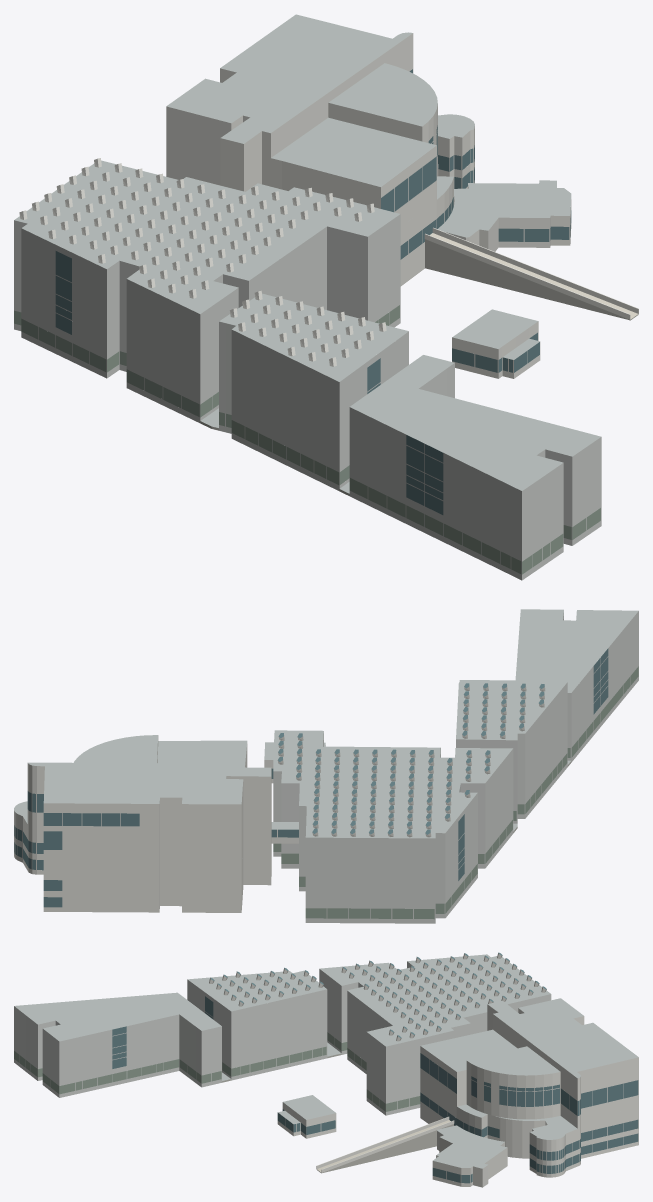
The model's file is high-museum-of-art-far.glb.
3 views of the same model, one above another, from view 1: azimuth 30°, elevation 25°; view 2: azimuth 150°, elevation 25°; view 3: azimuth 270°, elevation 25° (orthographic). The views are drawn at different scales.
Visible parts, largest first — view 1: high-museum-of-art-0-roof, high-museum-of-art-0-aluminum, high-museum-of-art-0-white, high-museum-of-art-0-glass, high-museum-of-art-0-glow, high-museum-of-art-0-foundation, high-museum-of-art-0-path; view 2: high-museum-of-art-0-roof, high-museum-of-art-0-white, high-museum-of-art-0-aluminum, high-museum-of-art-0-glass, high-museum-of-art-0-glow; view 3: high-museum-of-art-0-roof, high-museum-of-art-0-aluminum, high-museum-of-art-0-white, high-museum-of-art-0-glass, high-museum-of-art-0-glow, high-museum-of-art-0-foundation, high-museum-of-art-0-path.
Boxes of the visible parts, box(x1,y1,x2,y2) form: high-museum-of-art-0-roof: box(14, 14, 600, 493); high-museum-of-art-0-aluminum: box(14, 214, 601, 580); high-museum-of-art-0-white: box(19, 33, 638, 378); high-museum-of-art-0-glass: box(55, 69, 571, 514); high-museum-of-art-0-glow: box(14, 305, 600, 574); high-museum-of-art-0-foundation: box(200, 239, 638, 495); high-museum-of-art-0-path: box(430, 233, 637, 318); high-museum-of-art-0-roof: box(14, 609, 638, 838); high-museum-of-art-0-white: box(14, 684, 545, 912); high-museum-of-art-0-aluminum: box(273, 611, 638, 923); high-museum-of-art-0-glass: box(14, 648, 608, 907); high-museum-of-art-0-glow: box(273, 666, 638, 919); high-museum-of-art-0-roof: box(14, 954, 638, 1168); high-museum-of-art-0-aluminum: box(14, 961, 551, 1115); high-museum-of-art-0-white: box(209, 953, 638, 1187); high-museum-of-art-0-glass: box(112, 952, 638, 1183); high-museum-of-art-0-glow: box(14, 1032, 420, 1111); high-museum-of-art-0-foundation: box(222, 1053, 453, 1173); high-museum-of-art-0-path: box(317, 1120, 450, 1172).
Bounding box in the file's own units: 112 × 28 × 180.
